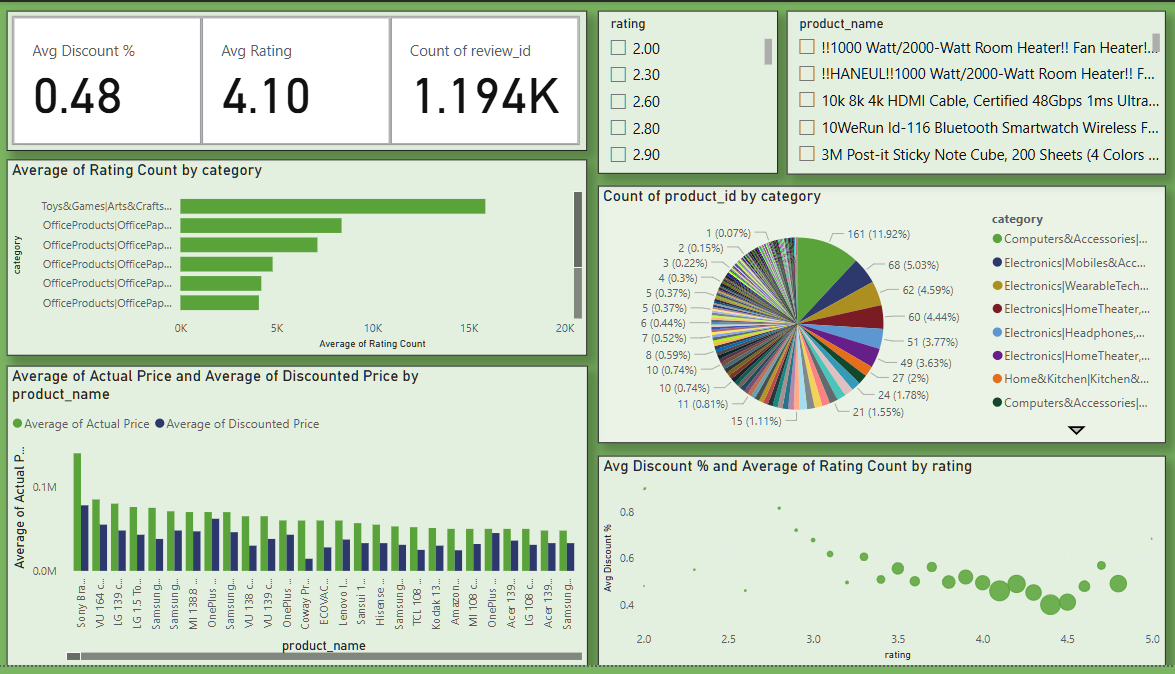

What the dashboard file says about the page in this screenshot:
{"tool":"powerbi","page":{"name":"Page 1","canvas":[1280,720],"ordinal":0},"visuals":[{"type":"cardVisual","fields":{"Data":["amazon.Avg Discount %","amazon.Avg Rating","Count(amazon.review_id)"]},"box":[9.6,9.6,629.8,152.3],"z":0},{"type":"barChart","fields":{"Category":["amazon.category"],"Y":["Avg(amazon.Rating Count)"]},"box":[9.6,171.5,629.8,212.7],"z":1000},{"type":"clusteredColumnChart","fields":{"Category":["amazon.product_name"],"Y":["Avg(amazon.Actual Price)","Avg(amazon.Discounted Price)"]},"box":[10,394.3,630,325.7],"z":2000},{"type":"pieChart","fields":{"Category":["amazon.category"],"Y":["Count(amazon.product_id)"]},"box":[651,199.4,615.7,279.4],"z":3000},{"type":"scatterChart","fields":{"Y":["amazon.Avg Discount %"],"X":["amazon.rating"],"Size":["Avg(amazon.Rating Count)"]},"box":[651,492.3,615.7,227.8],"z":4000},{"type":"slicer","fields":{"Values":["amazon.rating"]},"box":[650.4,9.6,194.9,177],"z":5000},{"type":"slicer","fields":{"Values":["amazon.product_name"]},"box":[855.8,9.5,410.9,177.7],"z":5001}]}

Visuals, with their boxes in screenshot pixels (x1, y1, x2, y2), scaled from the page's 1280x720 canvas onto the 1175x674 screenshot:
cardVisual - amazon.Avg Discount % x amazon.Avg Rating: BBox(9, 9, 587, 152)
barChart - amazon.category x Avg(amazon.Rating Count): BBox(9, 161, 587, 360)
clusteredColumnChart - amazon.product_name x Avg(amazon.Actual Price): BBox(9, 369, 588, 673)
pieChart - amazon.category x Count(amazon.product_id): BBox(598, 187, 1163, 448)
scatterChart - amazon.Avg Discount % x amazon.rating: BBox(598, 461, 1163, 673)
slicer - amazon.rating: BBox(597, 9, 776, 175)
slicer - amazon.product_name: BBox(786, 9, 1163, 175)
